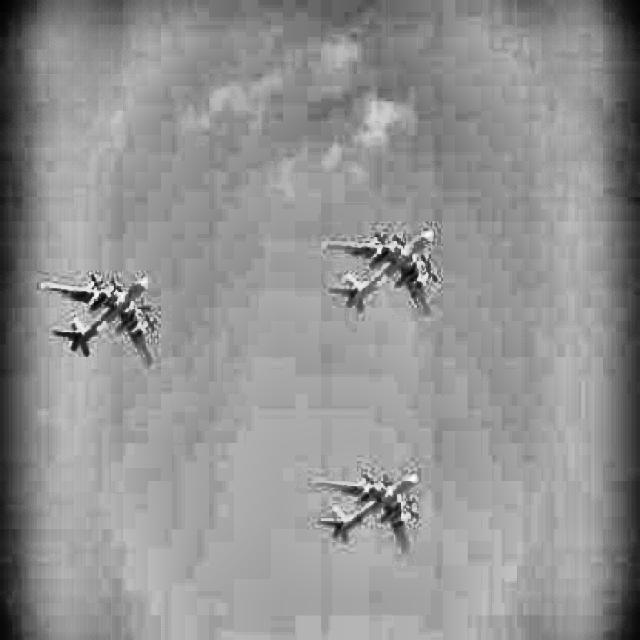Tu95: (37, 271, 160, 369), (316, 228, 438, 322), (310, 467, 422, 555)
